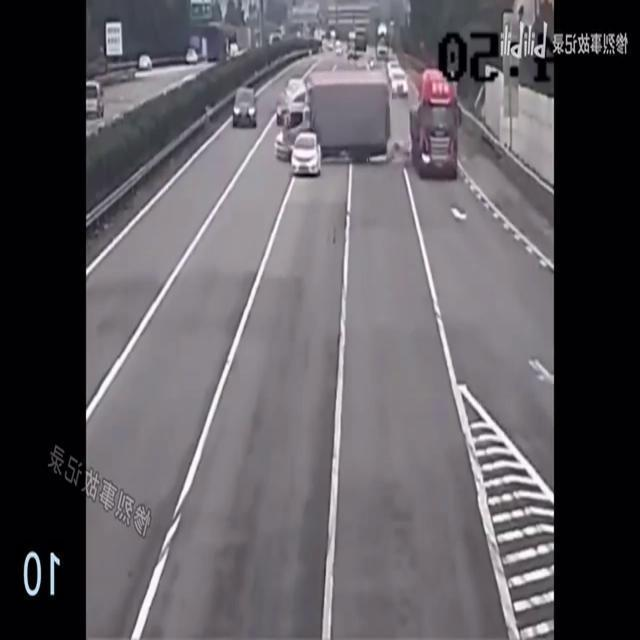accident: (274, 70, 392, 178)
